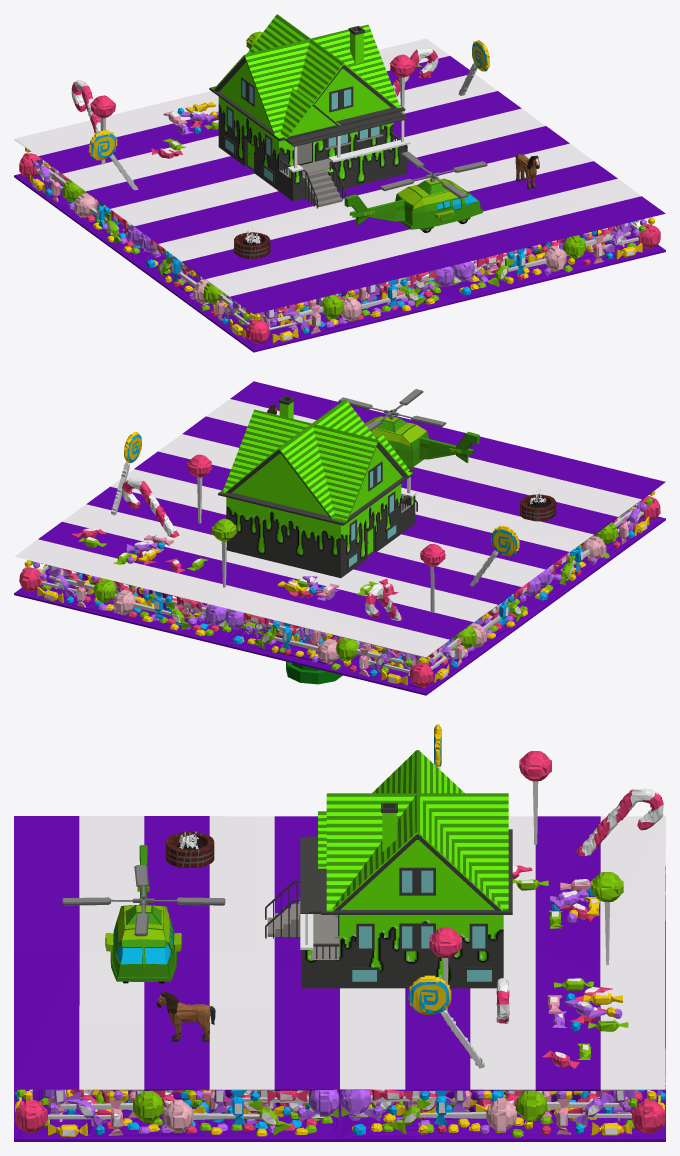
3 views of the same model, one above another, from view 1: azimuth 30°, elevation 25°; view 2: azimuth 150°, elevation 25°; view 3: azimuth 270°, elevation 25° (orthographic). The views are drawn at different scales.
Parts seen in each view (by area): view 1: TERRAIN_CANDY, Cube.754, VEHICLES_HELICOPTER, OBJRANDOM_CAMPFIRE, ANIMAL_CABALLO; view 2: TERRAIN_CANDY, Cube.754, VEHICLES_HELICOPTER, OBJRANDOM_CAMPFIRE, UNDERGROUND_PIPES; view 3: TERRAIN_CANDY, Cube.754, VEHICLES_HELICOPTER, OBJRANDOM_CAMPFIRE, ANIMAL_CABALLO.
Boxes of the visible parts, left/top/right/bottom form: TERRAIN_CANDY: left=14, top=31, right=665, bottom=352; Cube.754: left=209, top=14, right=410, bottom=208; VEHICLES_HELICOPTER: left=344, top=151, right=487, bottom=232; OBJRANDOM_CAMPFIRE: left=233, top=230, right=270, bottom=258; ANIMAL_CABALLO: left=515, top=154, right=539, bottom=189; TERRAIN_CANDY: left=14, top=381, right=665, bottom=695; Cube.754: left=218, top=395, right=417, bottom=578; VEHICLES_HELICOPTER: left=338, top=389, right=479, bottom=467; OBJRANDOM_CAMPFIRE: left=519, top=492, right=556, bottom=521; UNDERGROUND_PIPES: left=286, top=661, right=342, bottom=684; TERRAIN_CANDY: left=14, top=724, right=665, bottom=1141; Cube.754: left=265, top=750, right=512, bottom=988; VEHICLES_HELICOPTER: left=62, top=845, right=225, bottom=983; OBJRANDOM_CAMPFIRE: left=165, top=829, right=214, bottom=867; ANIMAL_CABALLO: left=157, top=991, right=215, bottom=1042.
Size of the model in its own units: 4059 by 2167 by 4000.
Materials: 29 (3 with a texture image).
